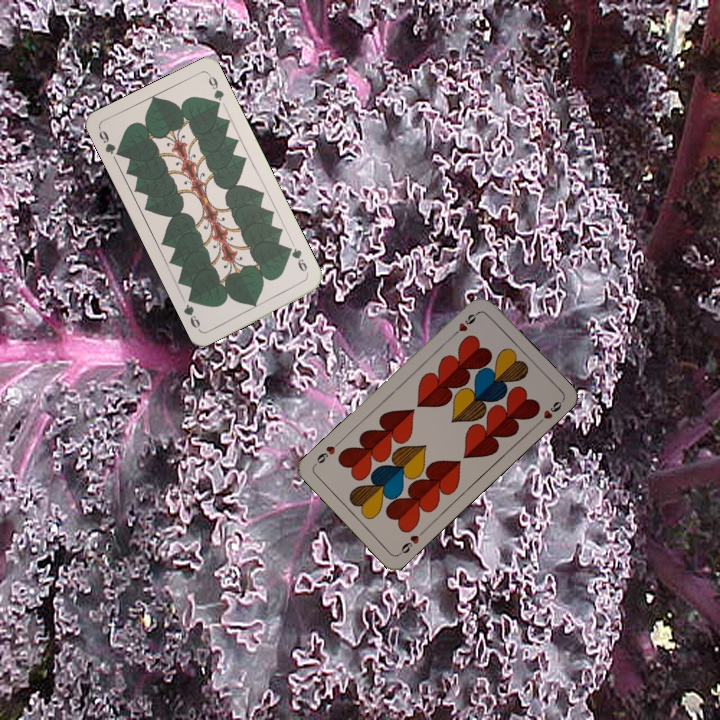G9: (94, 125, 125, 159), (283, 243, 311, 278)
H9: (394, 526, 427, 558), (448, 308, 481, 339)
